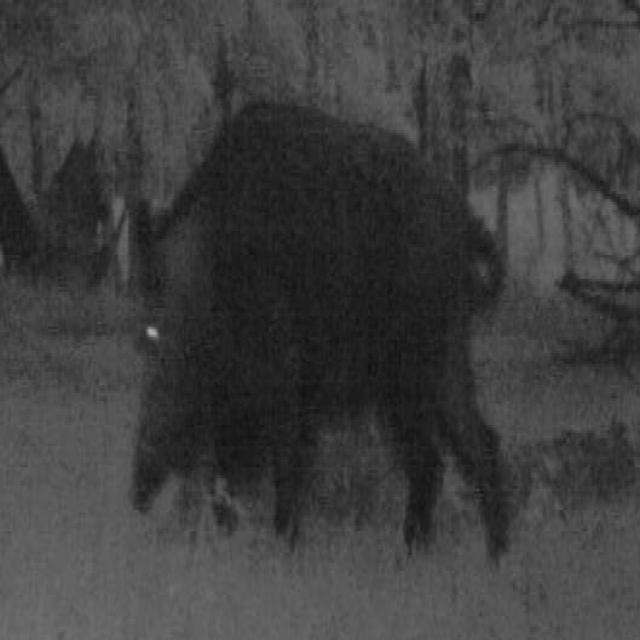pig: (102, 95, 516, 570)
